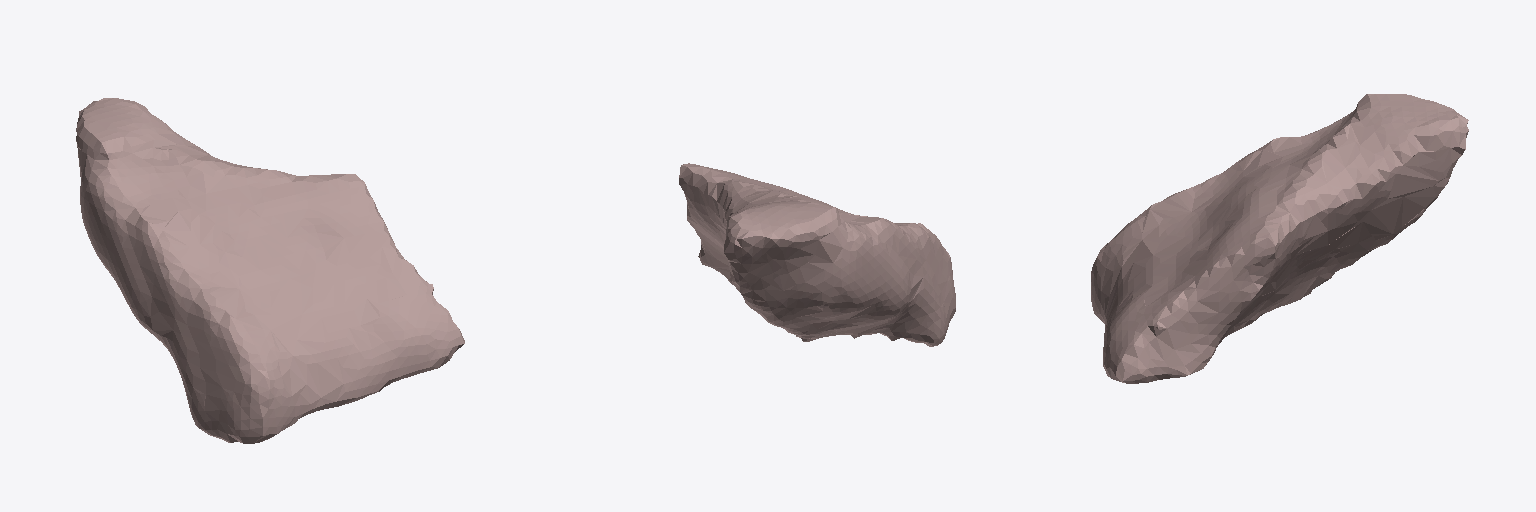
File: Model_10124_LH__Secondary_somatosensory_cortex__parietal_rostral_area_(S2PR).obj
The picture shows the model from 3 angles: view 1: azimuth 30°, elevation 25°; view 2: azimuth 150°, elevation 25°; view 3: azimuth 270°, elevation 25°; orthographic projection.
Bounding box in the file's own units: 2.48 × 1.99 × 3.11.